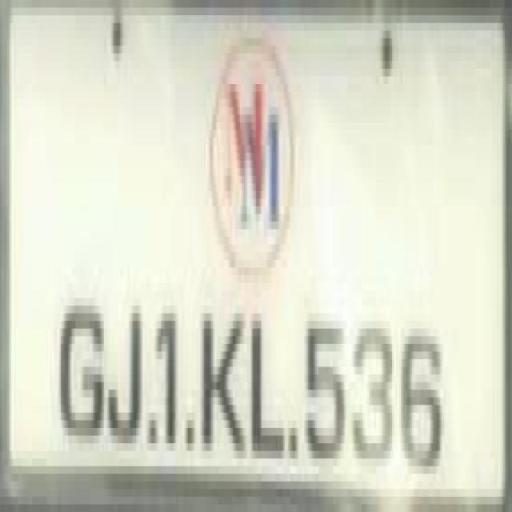number plate: (3, 7, 488, 512)
